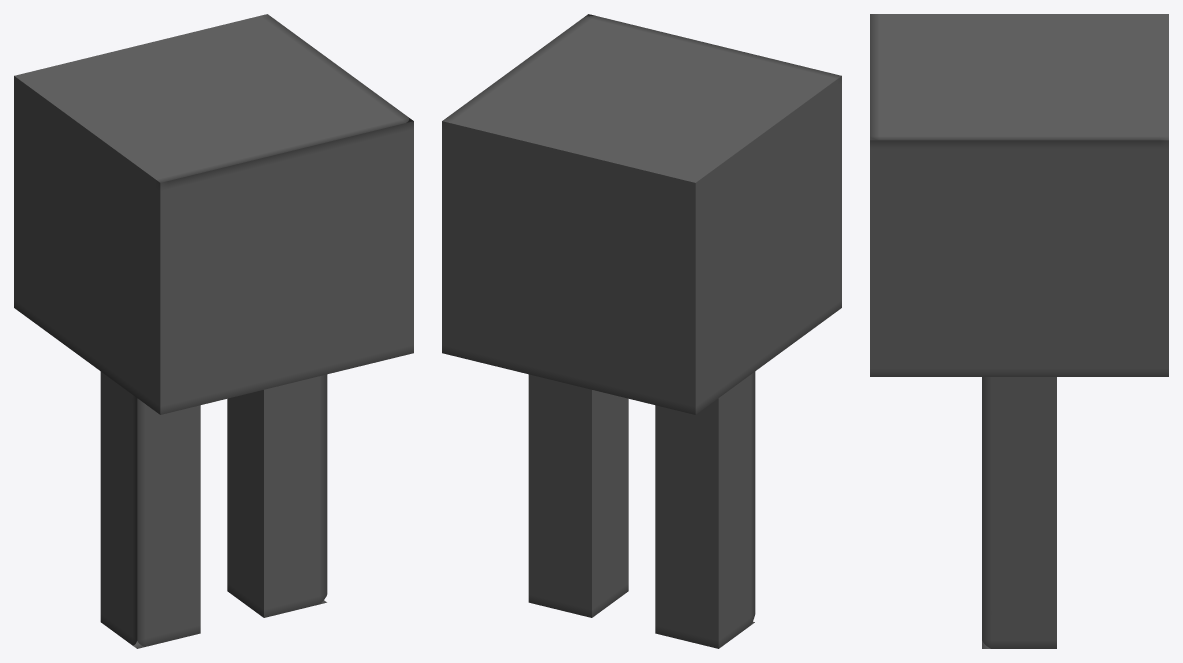
Rendered from overworld_strider_statue.obj.
3 renders of one model, left to right at view 1: azimuth 30°, elevation 25°; view 2: azimuth 150°, elevation 25°; view 3: azimuth 270°, elevation 25°, orthographic. The views are drawn at different scales.
Parts seen in each view (by area): view 1: cube; view 2: cube; view 3: cube.
Boxes of the visible parts, left/top/right/bottom form: cube: left=14, top=14, right=413, bottom=648; cube: left=442, top=14, right=841, bottom=648; cube: left=870, top=14, right=1168, bottom=648.
Size of the model in its own units: 1 by 1.94 by 1.
